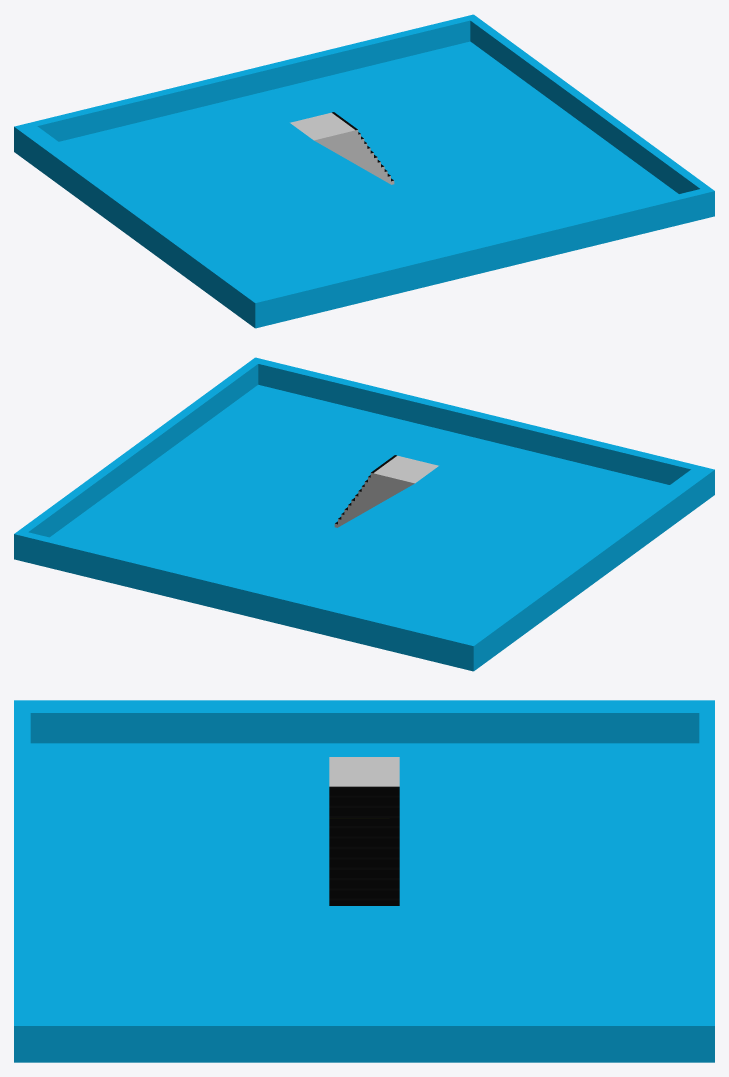
Rendered from Test Leve.fbx.
The picture shows the model from 3 angles, top to bottom: view 1: azimuth 30°, elevation 25°; view 2: azimuth 150°, elevation 25°; view 3: azimuth 270°, elevation 25°; orthographic projection. The views are drawn at different scales.
Visible parts, largest first — view 1: Cube, Cube_001; view 2: Cube, Cube_001; view 3: Cube, Cube_001.
Boxes of the visible parts, x1,y1,x2,y2 form: Cube: [14, 14, 714, 328]; Cube_001: [290, 112, 394, 184]; Cube: [14, 357, 714, 671]; Cube_001: [334, 455, 438, 527]; Cube: [14, 700, 714, 1062]; Cube_001: [329, 757, 399, 905].
Size of the model in its own units: 22 by 3.1 by 20.
3 materials, 2 textured.
